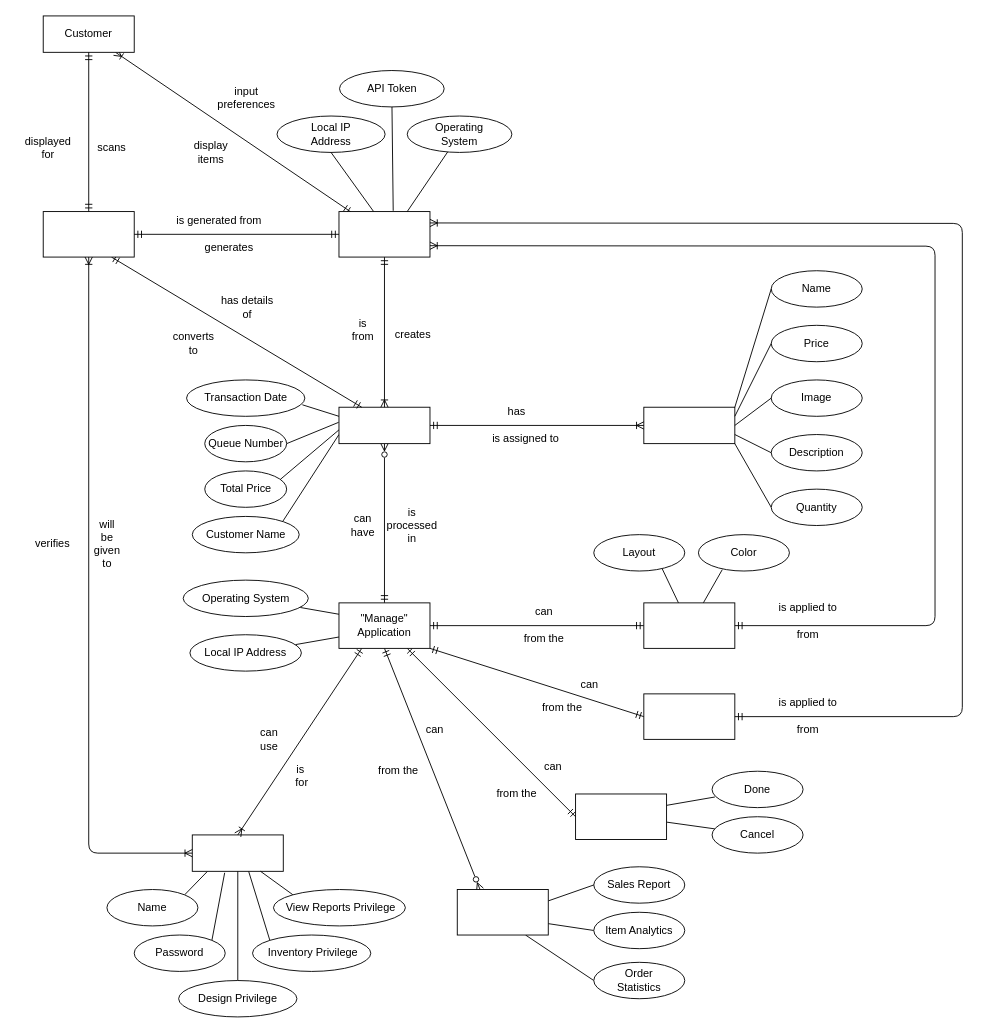
Image size: 986x1033. Some labels were removed from this diagram. The centre of each missing label's shape, as x and y in pixels:
"Order" Application: the point at 384,234
Design Kiosk UI: the point at 689,625
Employee: the point at 237,852
Generate Report: the point at 502,912
Item: the point at 689,425
Manage Menu Item/s: the point at 689,716
Manage Order: the point at 621,816
Order: the point at 384,425
QR Code (E-receipt): the point at 88,234
